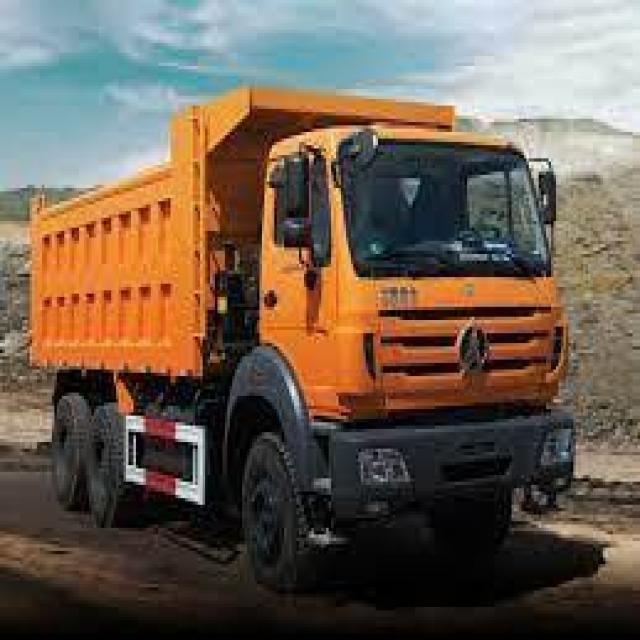dump_truck: (27, 86, 576, 592)
